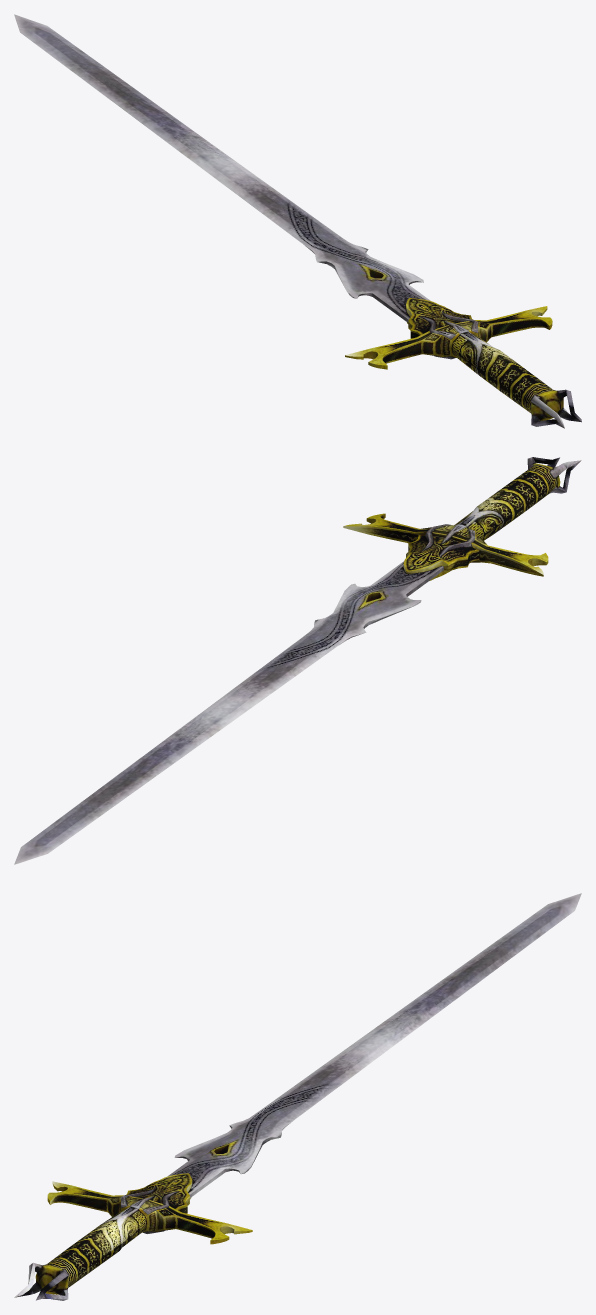
File: sword_herosword1_herosword1.glb
3 views of the same model, one above another, from view 1: azimuth 30°, elevation 25°; view 2: azimuth 150°, elevation 25°; view 3: azimuth 330°, elevation 25° (orthographic).
Size of the model in its own units: 0.3004 by 0.044 by 1.44.
Materials: 1 (1 with a texture image).
